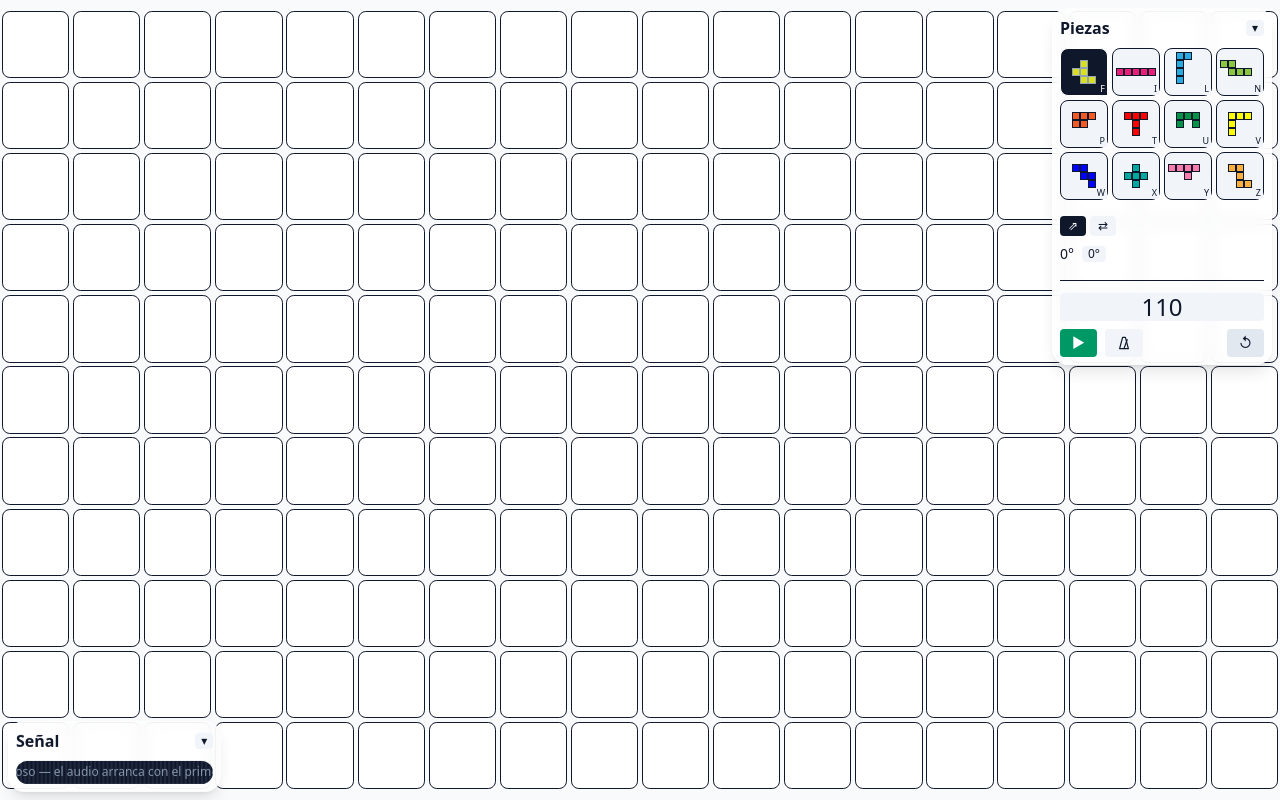
Test case: App: the transport › AC-PLY-002 — the button shows whether the clock STARTED, not whether it was pressed
Click the button named "Reproducir" at (1078, 343), box [1060,329,1097,357]
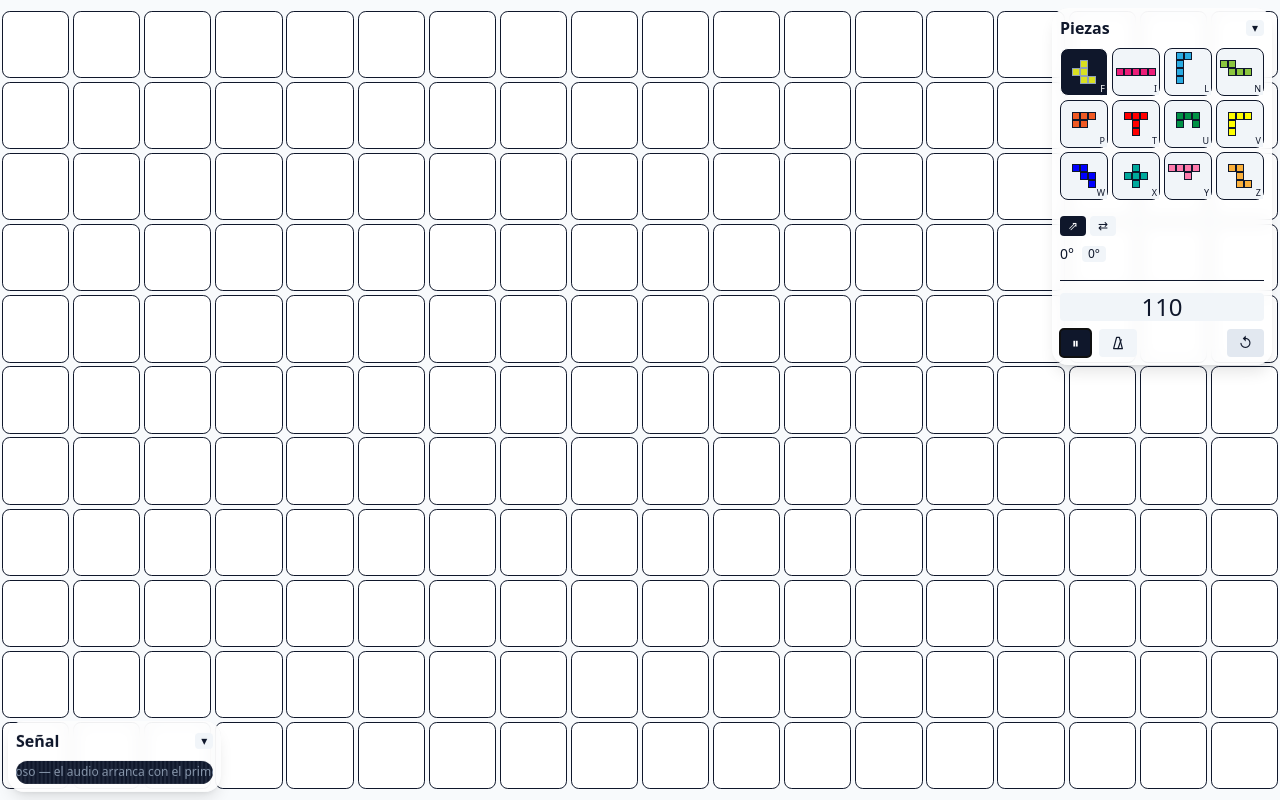
Expected: the button named "Pausa" is shown
Click the button named "Pausa" at (1076, 343), box [1060,329,1091,357]
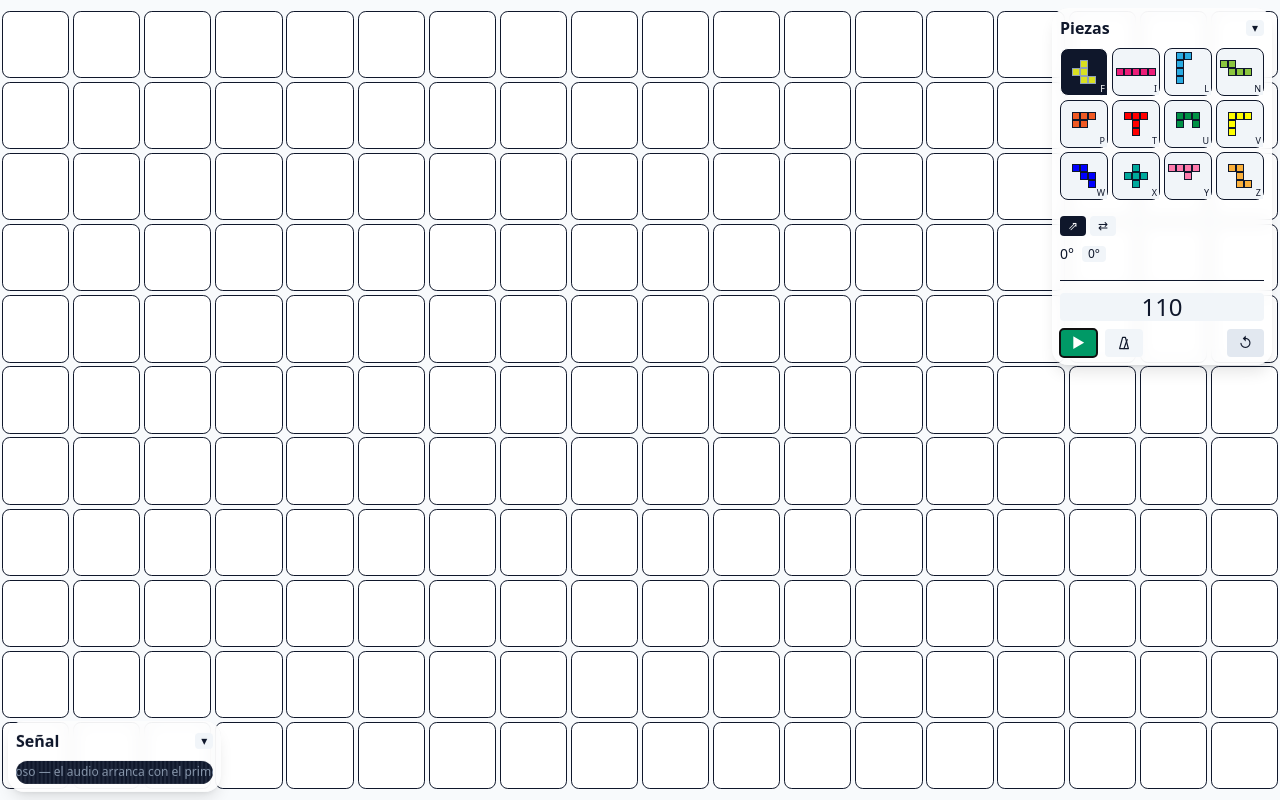
Expected: the button named "Reproducir" is shown, [1060,329,1097,357]
